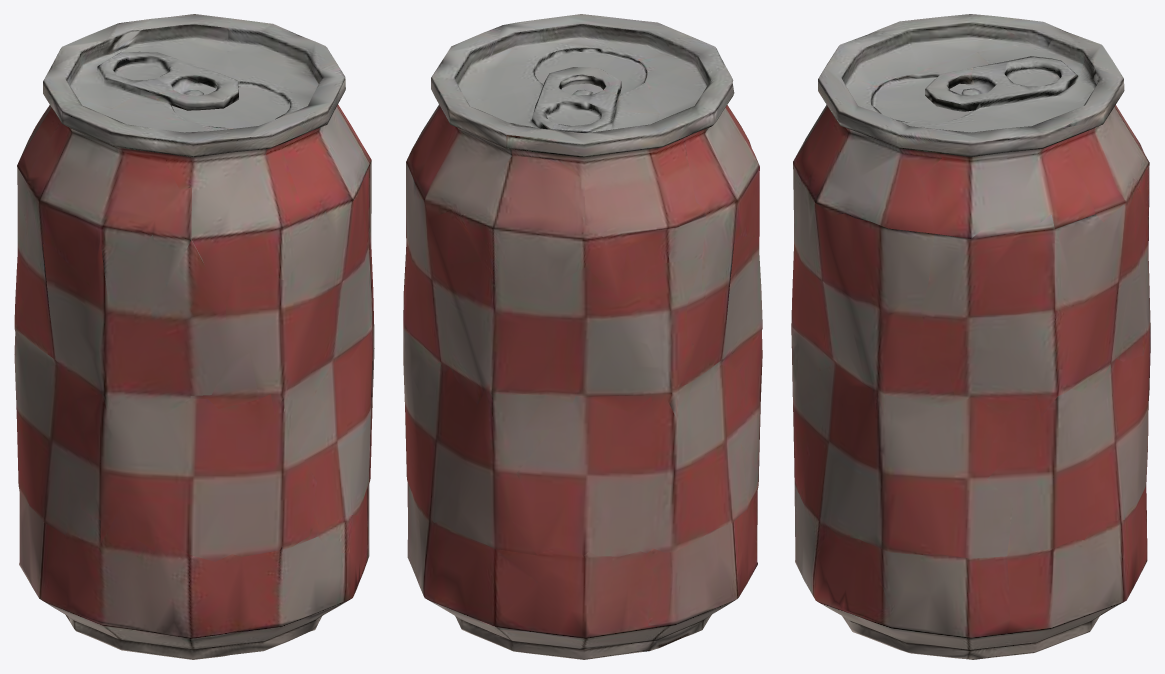
The model's file is soda.glb.
3 renders of one model, left to right at view 1: azimuth 30°, elevation 25°; view 2: azimuth 150°, elevation 25°; view 3: azimuth 270°, elevation 25°, orthographic.
Parts seen in each view (by area): view 1: tripo_node_6d053fe1-0181-4618-a679-5f550fb82f60; view 2: tripo_node_6d053fe1-0181-4618-a679-5f550fb82f60; view 3: tripo_node_6d053fe1-0181-4618-a679-5f550fb82f60.
Part boxes in pixels (x1,y1,x2,y2): tripo_node_6d053fe1-0181-4618-a679-5f550fb82f60: (14,14,374,659); tripo_node_6d053fe1-0181-4618-a679-5f550fb82f60: (403,14,762,659); tripo_node_6d053fe1-0181-4618-a679-5f550fb82f60: (791,14,1150,659).
Size of the model in its own units: 0.6201 by 1 by 0.6207.
1 material, 1 textured.
